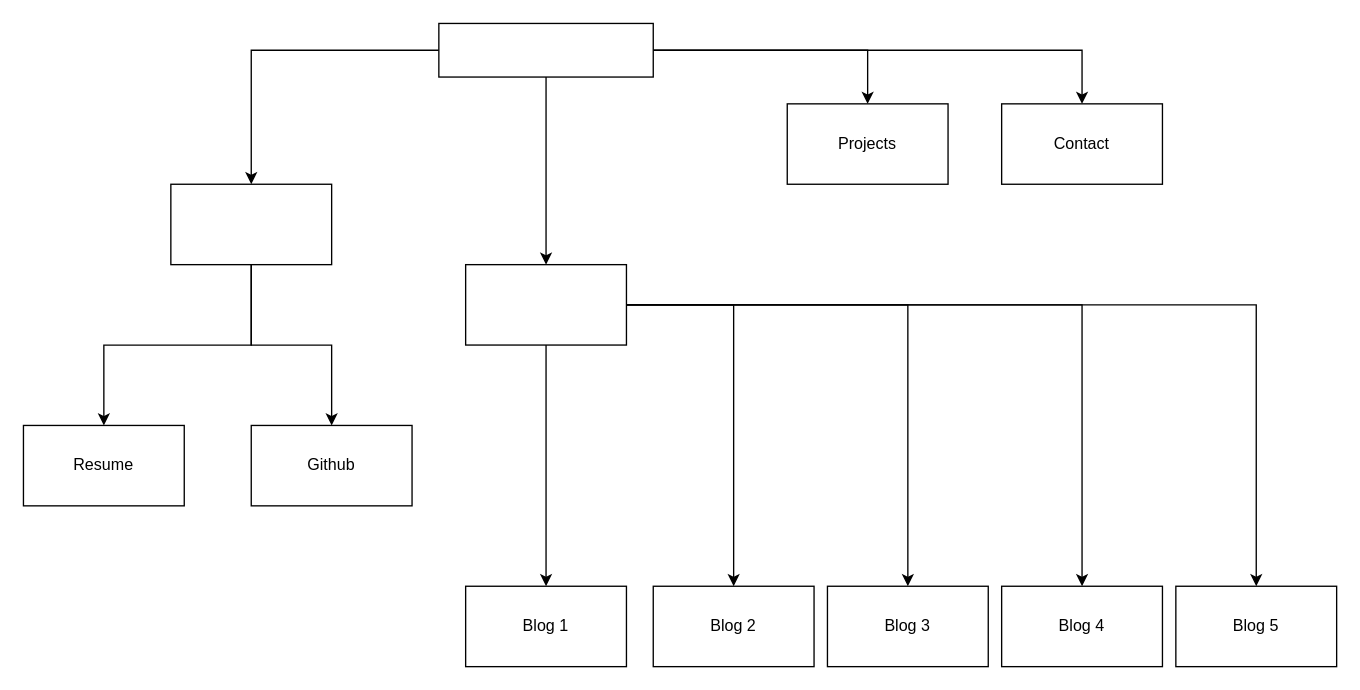
Some shapes in this 1360 by 690 pixel diagram are drawn without their labels. The box of each missing label's shape, as (x1, y1, x2, y2) in pixels:
About: (170, 183, 332, 265)
Blog: (464, 263, 626, 345)
Home: (438, 22, 653, 77)
